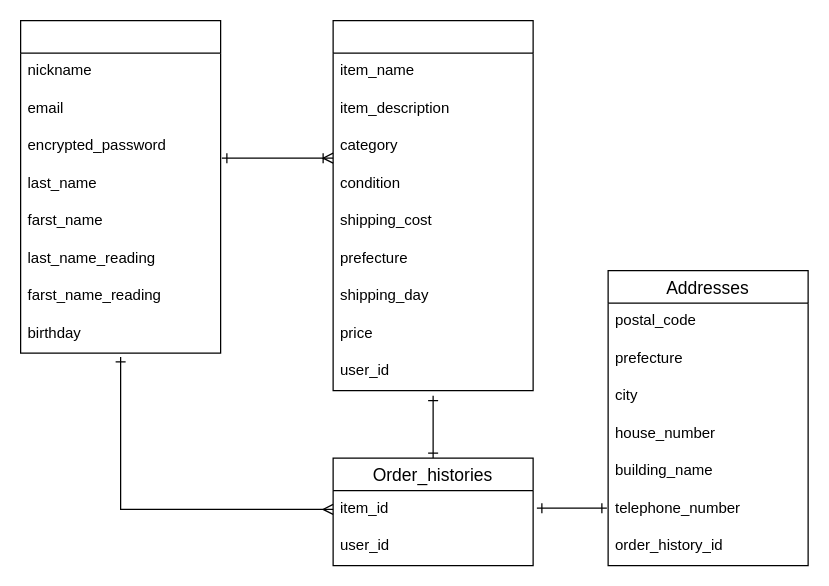
Some shapes in this 829 by 586 pixel diagram are drawn without their labels. The shapes that lost their labels are listed below. From the top down, each one's box as (x1, y1, x2, y2) in pixels, then its label:
(19, 19, 221, 353): Users
(332, 19, 533, 391): Items
